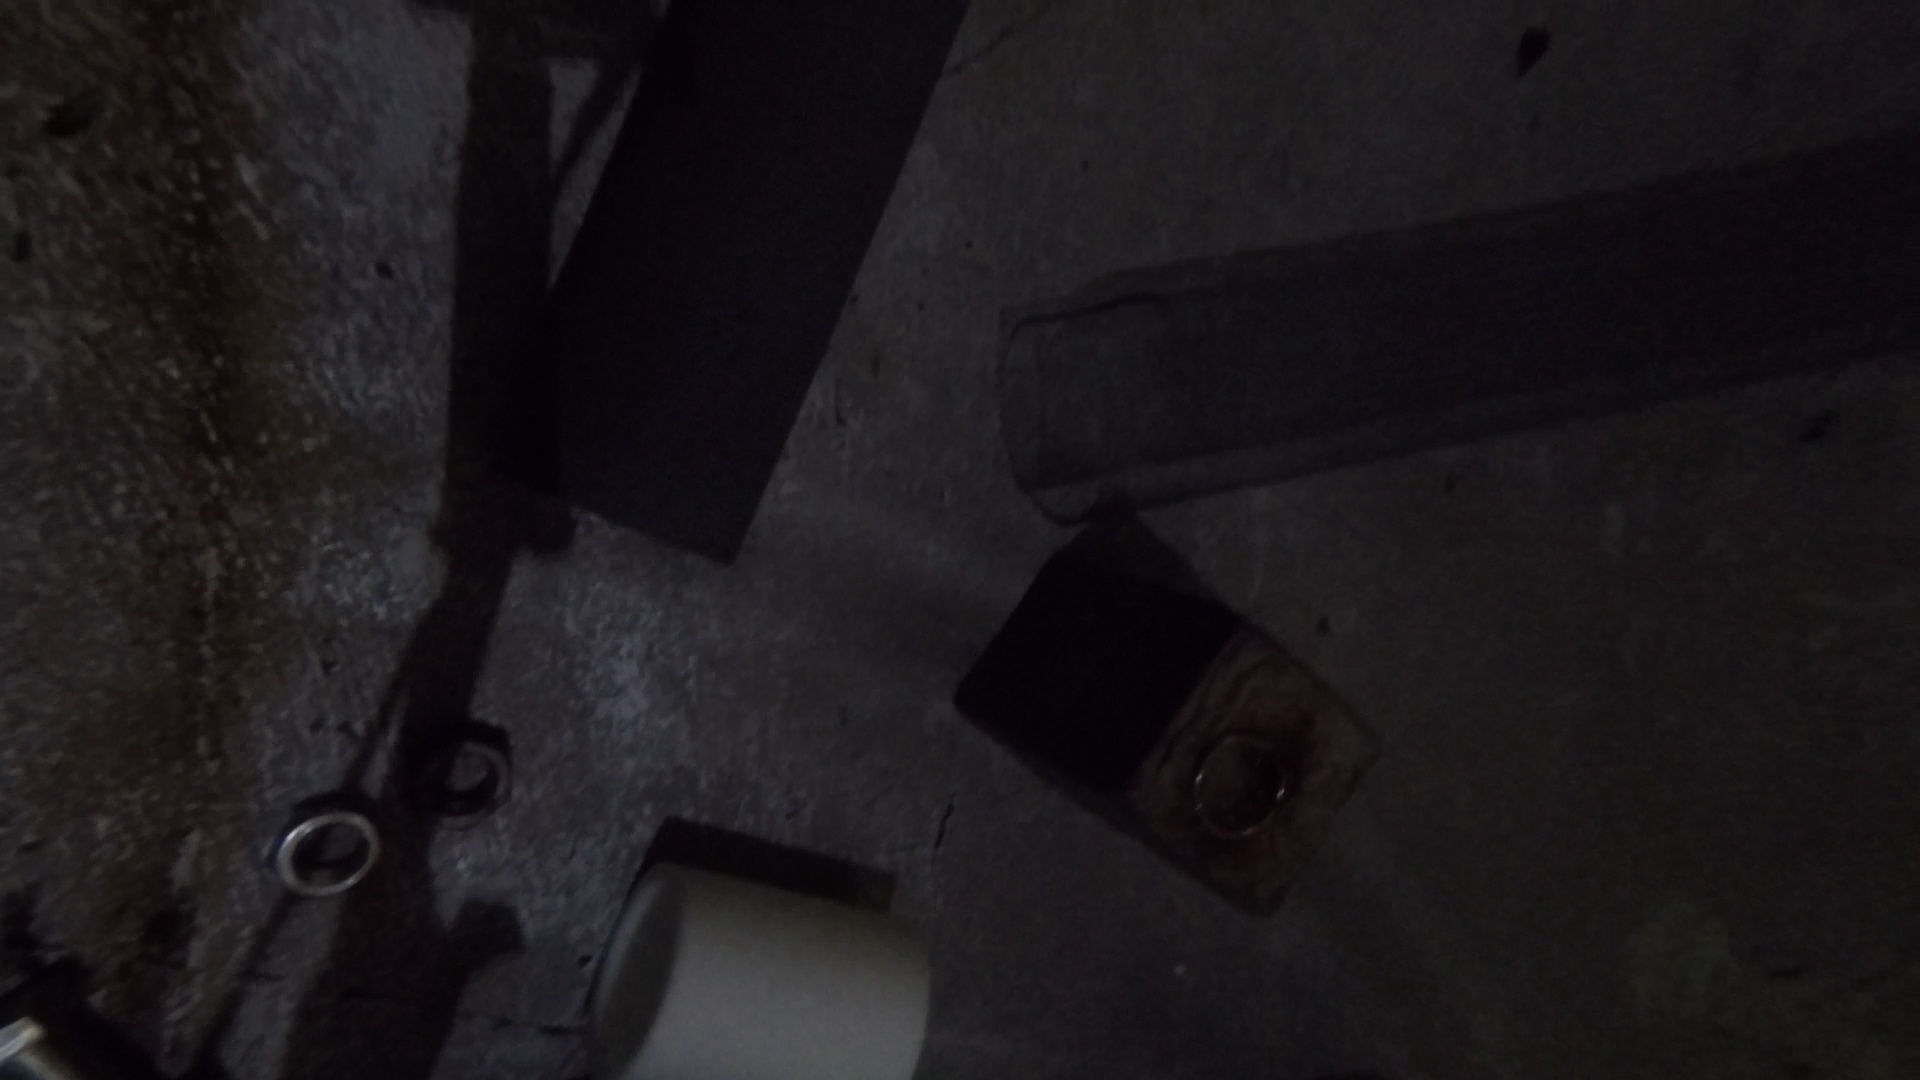bolt: (1, 1007, 96, 1077)
led_block: (953, 546, 1386, 919)
nut: (258, 791, 385, 901), (404, 727, 513, 833)
pipe: (996, 133, 1920, 526), (485, 1, 965, 568), (582, 862, 934, 1080)
